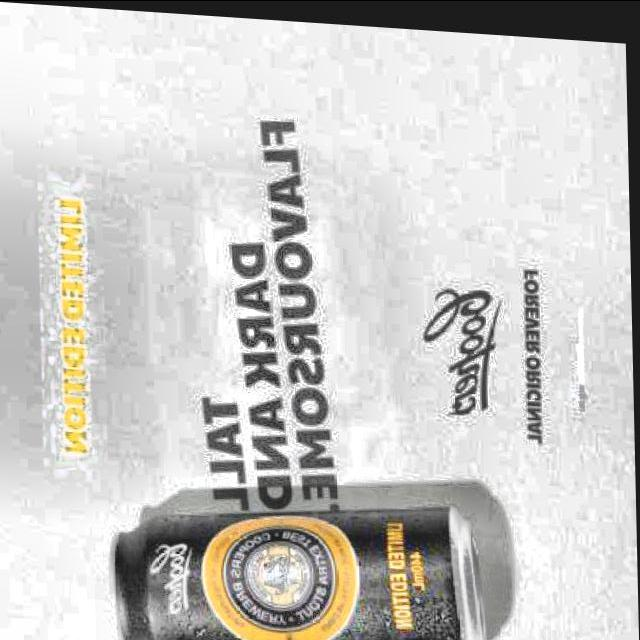litter: (102, 481, 493, 640)
